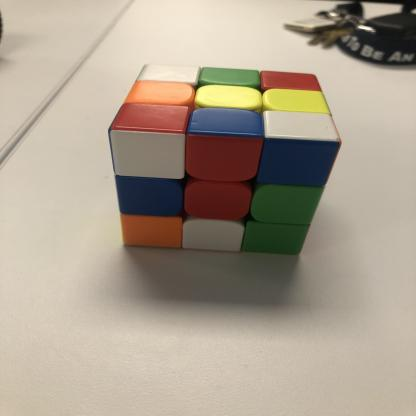UnsolvedCube: (99, 53, 345, 261)
